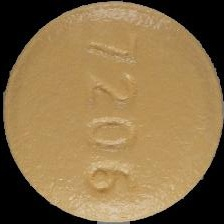43063-674: (0, 0, 224, 224)
